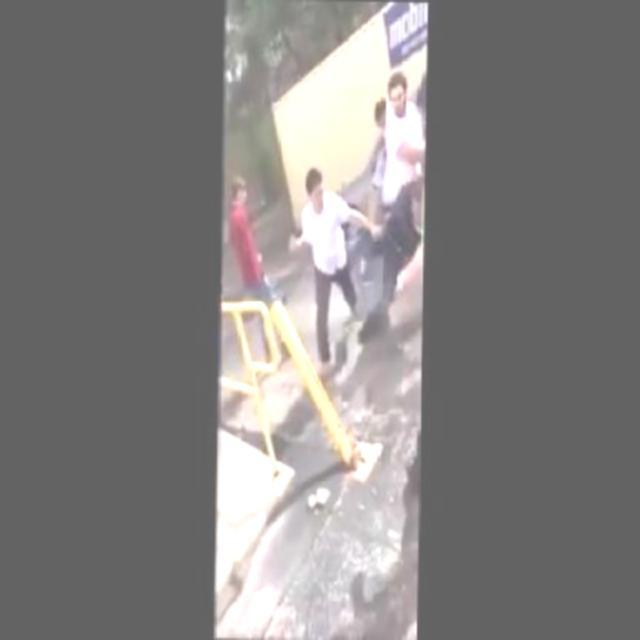fight: (288, 165, 422, 364)
